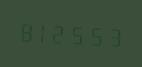eight: (17, 17, 33, 45)
five: (69, 19, 85, 47), (86, 20, 102, 48)
one: (34, 18, 50, 45)
three: (103, 21, 119, 49)
two: (52, 19, 68, 46)
